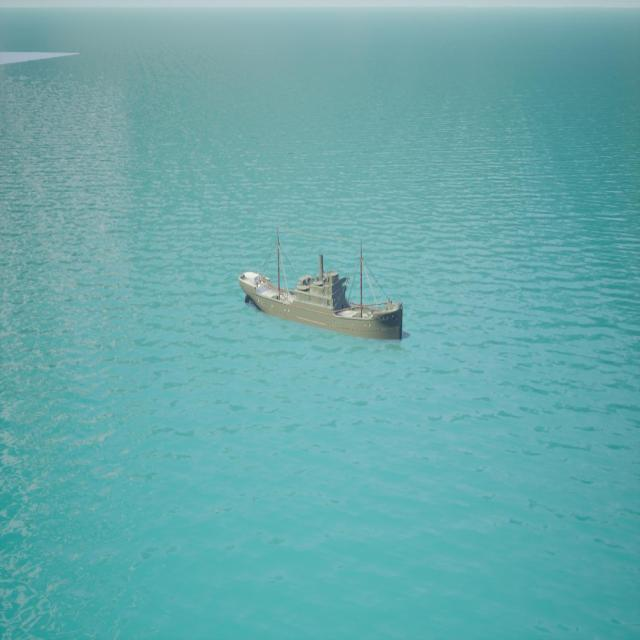fishing ship: (240, 235, 404, 344)
